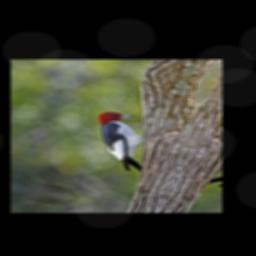Woodpecker: (72, 107, 173, 175)
